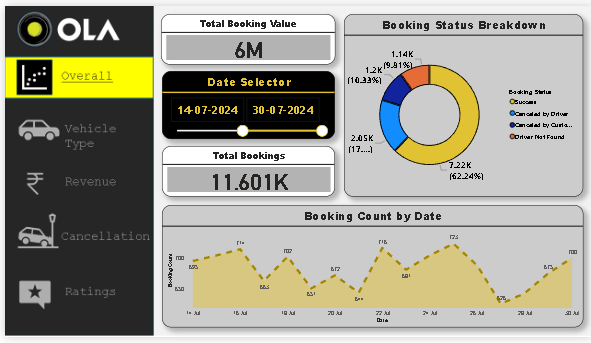

The page's visual inventory and layout, read from the dashboard file:
{"tool":"powerbi","page":{"name":"Overall","canvas":[1280,720],"ordinal":0},"visuals":[{"type":"actionButton","box":[0,205,322.5,112.5],"z":0},{"type":"actionButton","box":[0,317.5,322.5,112.5],"z":1000},{"type":"actionButton","box":[0,430,322.5,112.5],"z":2000},{"type":"actionButton","box":[0,560,322.5,160],"z":3000},{"type":"actionButton","box":[0,560,322.5,160],"z":4000},{"type":"actionButton","box":[0,102.5,322.5,112.5],"z":5000},{"type":"lineChart","fields":{"Y":["CountNonNull(July.Booking_ID)"],"Category":["July.Date"]},"box":[341.3,431.7,916.1,266],"z":6000},{"type":"donutChart","title":"Booking Status Breakdown","fields":{"Category":["July.Booking_Status"],"Y":["CountNonNull(July.Booking_Status)"]},"box":[737.9,17.6,519.5,396.5],"z":7000},{"type":"slicer","title":"Date Selector","fields":{"Values":["July.Date"]},"box":[341.3,140.5,376.5,148.1],"z":8000},{"type":"cardVisual","title":"Total Bookings","fields":{"Data":["CountNonNull(July.Booking_ID)"]},"box":[341.3,303.7,376.5,110.4],"z":9000},{"type":"cardVisual","title":"Total Booking Value","fields":{"Data":["Sum(July.Booking_Value)"]},"box":[338.8,17.6,379,110.4],"z":10000}]}

Visuals, with their boxes on the page's 1280x720 design canvas (x1, y1, x2, y2). These are canvas units, not pixel positions in the 591x343 screenshot, which may show the page scaled, cropped or inside an application window:
actionButton: [left=0, top=205, right=322, bottom=318]
actionButton: [left=0, top=318, right=322, bottom=430]
actionButton: [left=0, top=430, right=322, bottom=542]
actionButton: [left=0, top=560, right=322, bottom=720]
actionButton: [left=0, top=560, right=322, bottom=720]
actionButton: [left=0, top=102, right=322, bottom=215]
lineChart - CountNonNull(July.Booking_ID) x July.Date: [left=341, top=432, right=1257, bottom=698]
"Booking Status Breakdown" donutChart: [left=738, top=18, right=1257, bottom=414]
"Date Selector" slicer: [left=341, top=140, right=718, bottom=289]
"Total Bookings" cardVisual: [left=341, top=304, right=718, bottom=414]
"Total Booking Value" cardVisual: [left=339, top=18, right=718, bottom=128]
